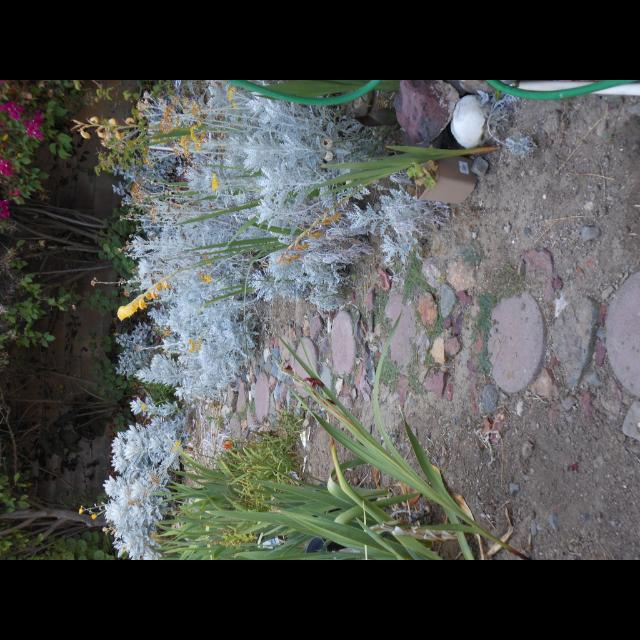Flower: (114, 80, 452, 410), (101, 369, 175, 546), (21, 122, 44, 140), (0, 157, 14, 175), (0, 197, 10, 220), (11, 106, 25, 120), (6, 189, 20, 199), (34, 108, 44, 122), (5, 100, 17, 108), (78, 506, 84, 516), (93, 512, 97, 522)
